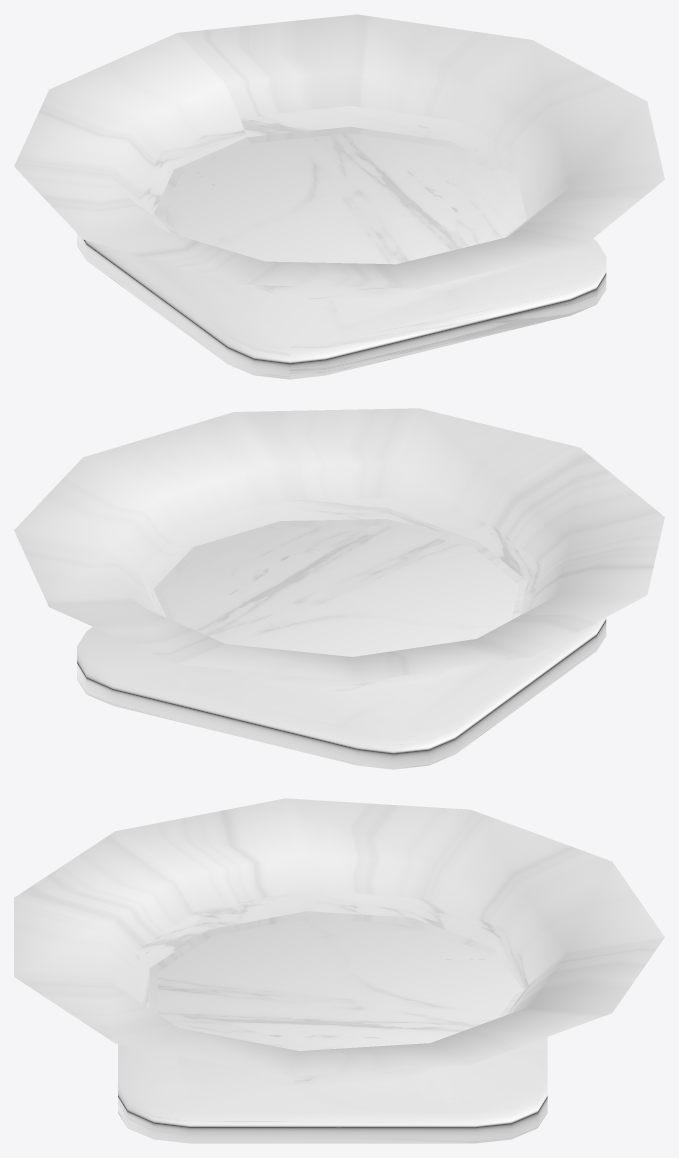
The model's file is FireBowl.fbx.
The picture shows the model from 3 angles, top to bottom: view 1: azimuth 30°, elevation 25°; view 2: azimuth 150°, elevation 25°; view 3: azimuth 270°, elevation 25°; orthographic projection.
Visible parts, largest first — view 1: Cube; view 2: Cube; view 3: Cube.
Part boxes in pixels (x1=…): Cube: x1=14, y1=14, x2=664, y2=379; Cube: x1=14, y1=408, x2=664, y2=769; Cube: x1=14, y1=798, x2=664, y2=1143.
Bounding box in the file's own units: 413 × 80.04 × 409.
